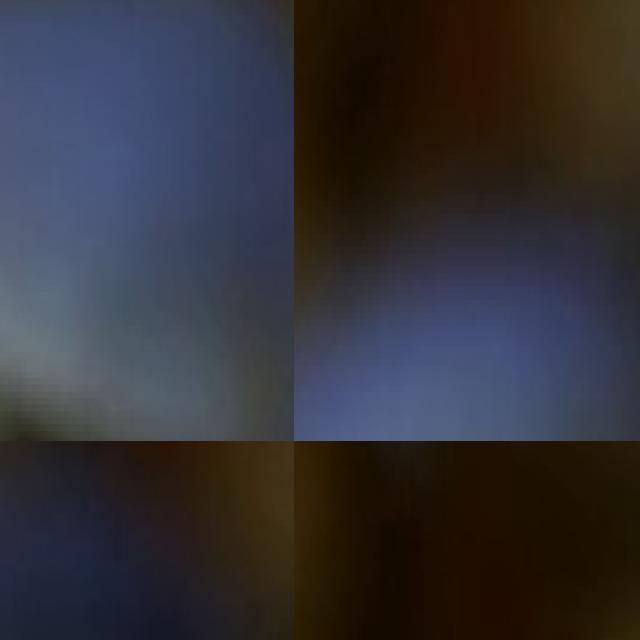fish: (0, 0, 294, 441), (0, 441, 294, 640)
